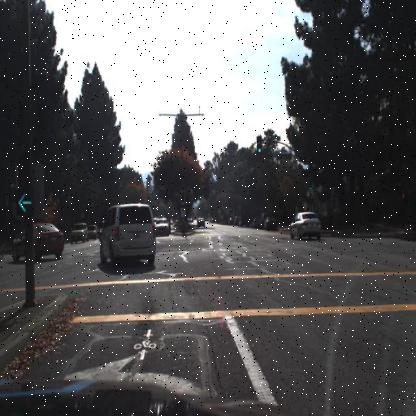car: (96, 199, 158, 268), (10, 218, 66, 261), (9, 222, 64, 263), (287, 206, 323, 240), (153, 215, 172, 238), (194, 212, 206, 230)
trafficLight-Green: (255, 134, 264, 154), (308, 180, 314, 194), (257, 139, 262, 155)
trafficLight-GreenLeft: (17, 150, 32, 218), (181, 190, 186, 208)
